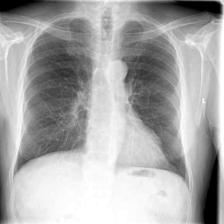normal: (10, 12, 194, 196)
